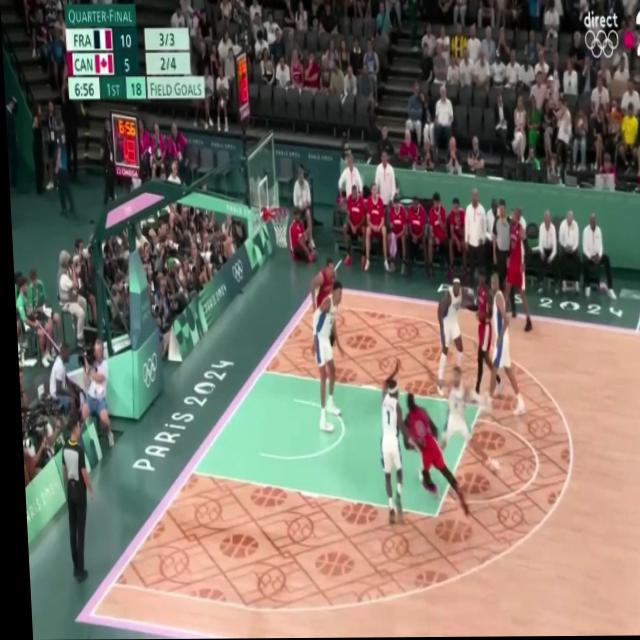ball_handler: (399, 387, 456, 511)
